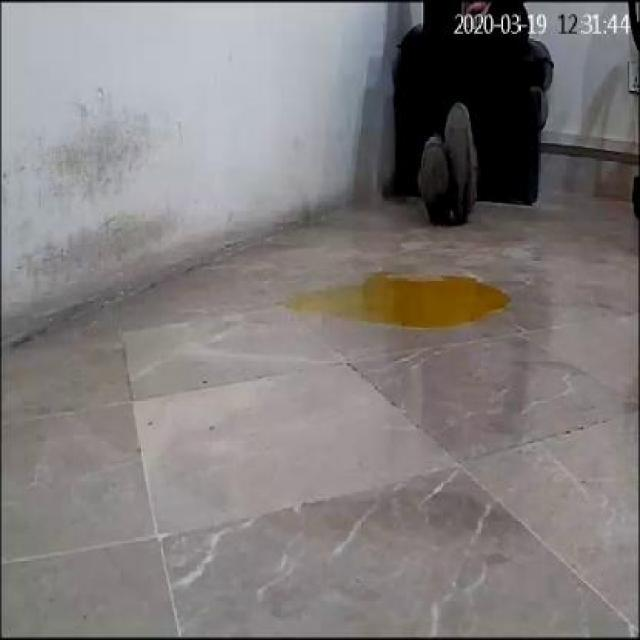spill: (298, 267, 511, 330)
